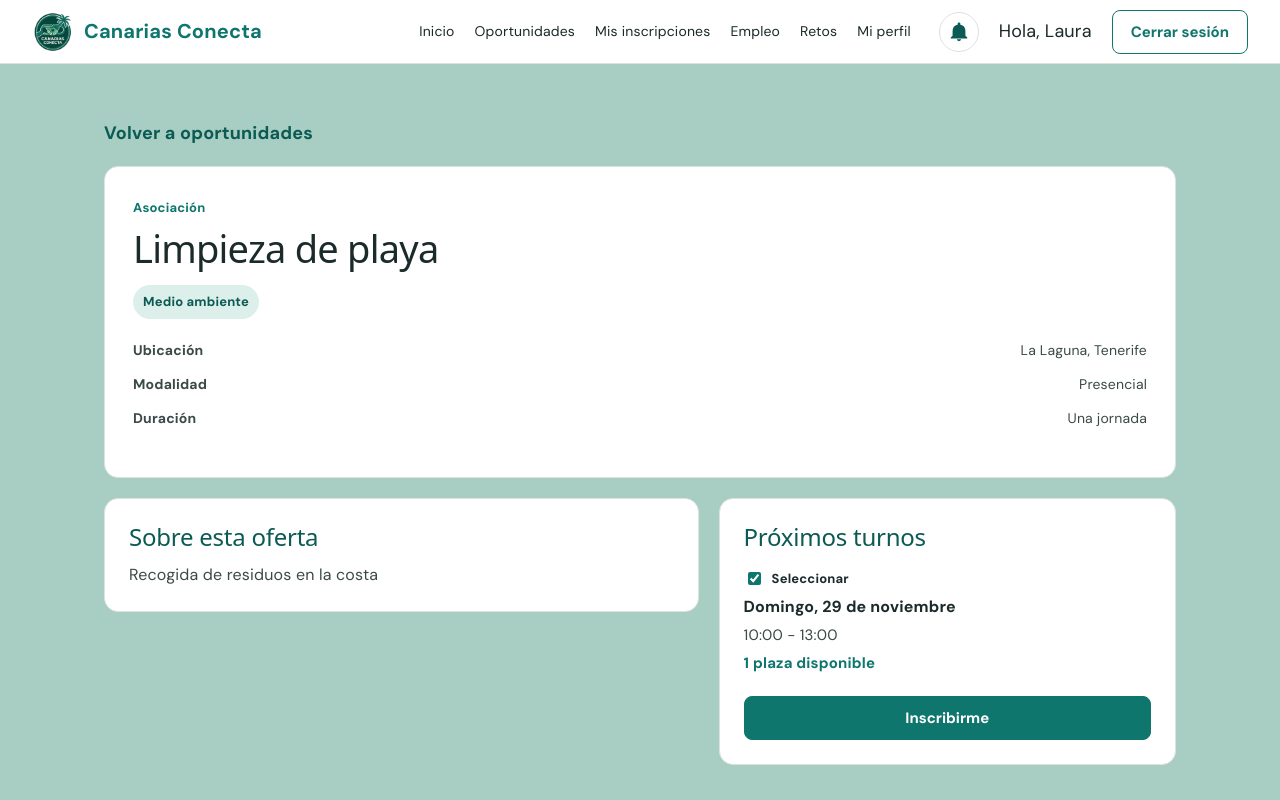
OfertaDetalle › muestra el mensaje del servidor si la inscripción falla
Click the button "Inscribirme": x=947, y=718 [744,696,1151,740]
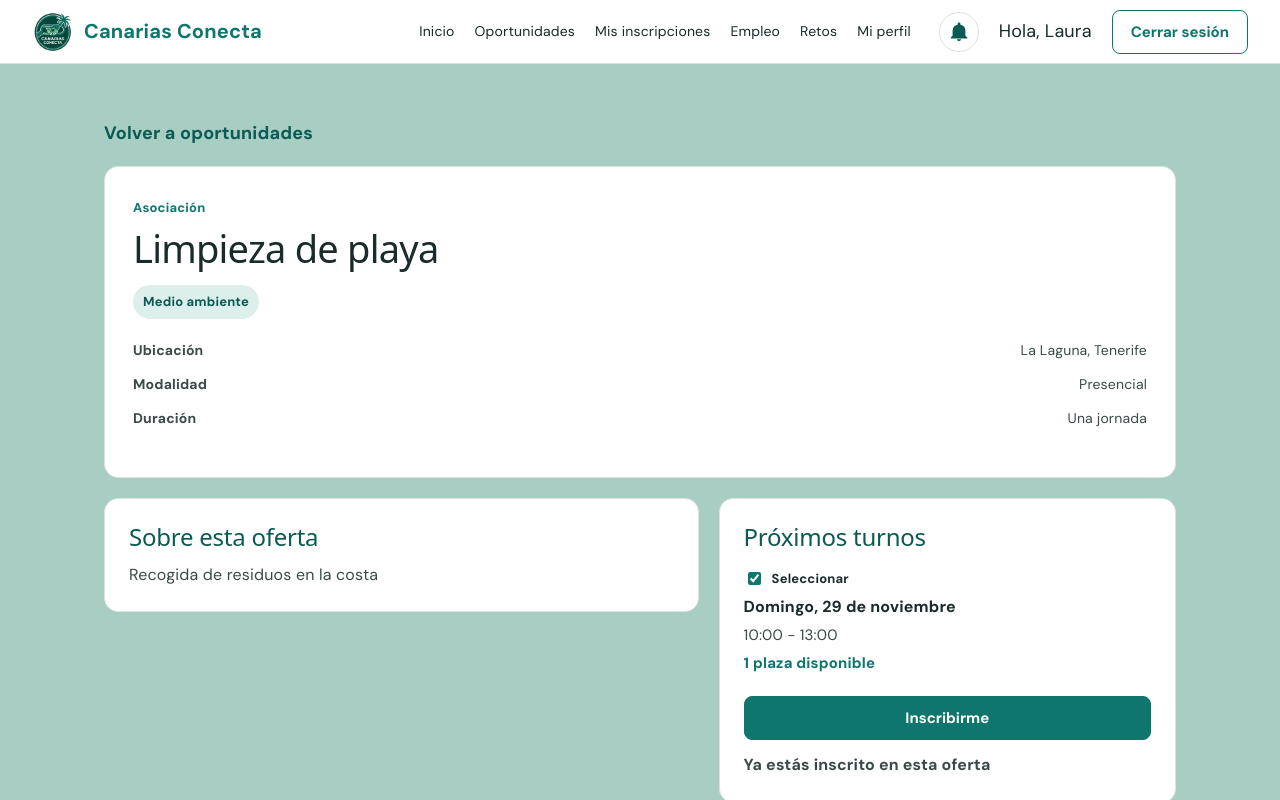
expect the text "Ya estás inscrito en esta oferta" is shown: met, box [744,754,991,775]
